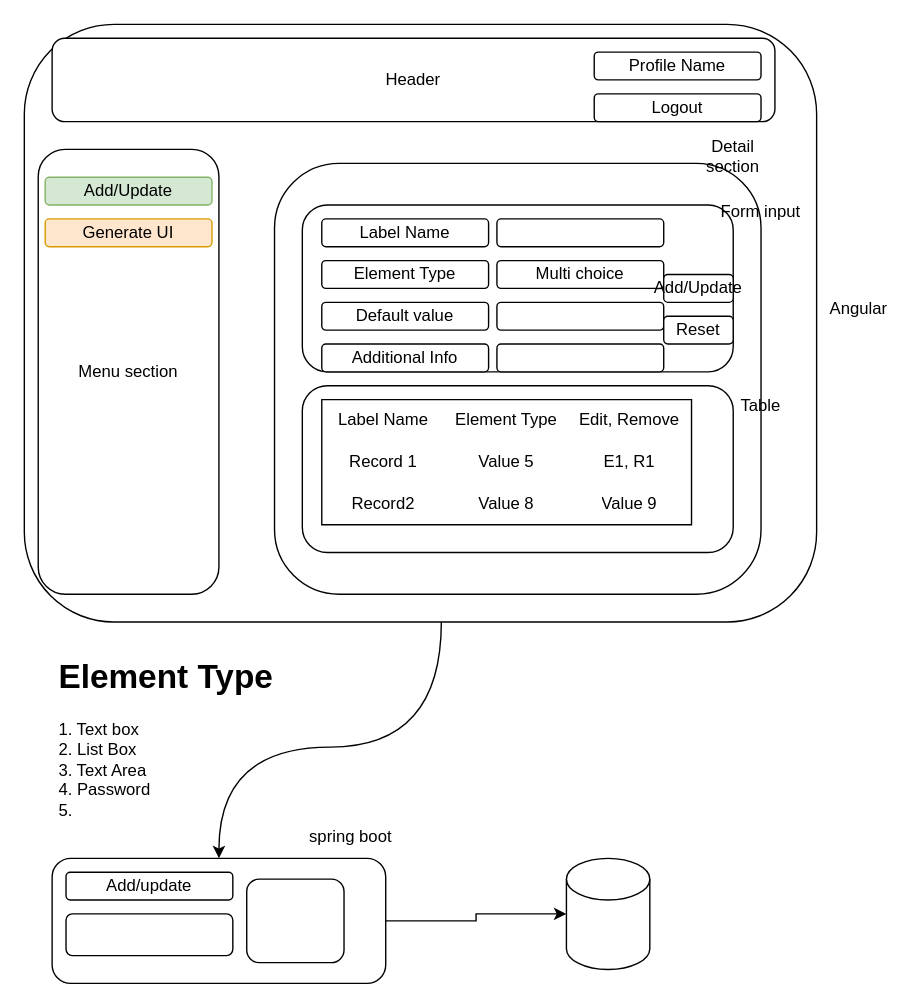
Some shapes in this 924 by 1008 pixel diagram are drawn without their labels. The centre of each missing label's shape, as x and y in pixels:
"DAO" goes at (294,920).
"Get (1 or more records)" goes at (149,934).
